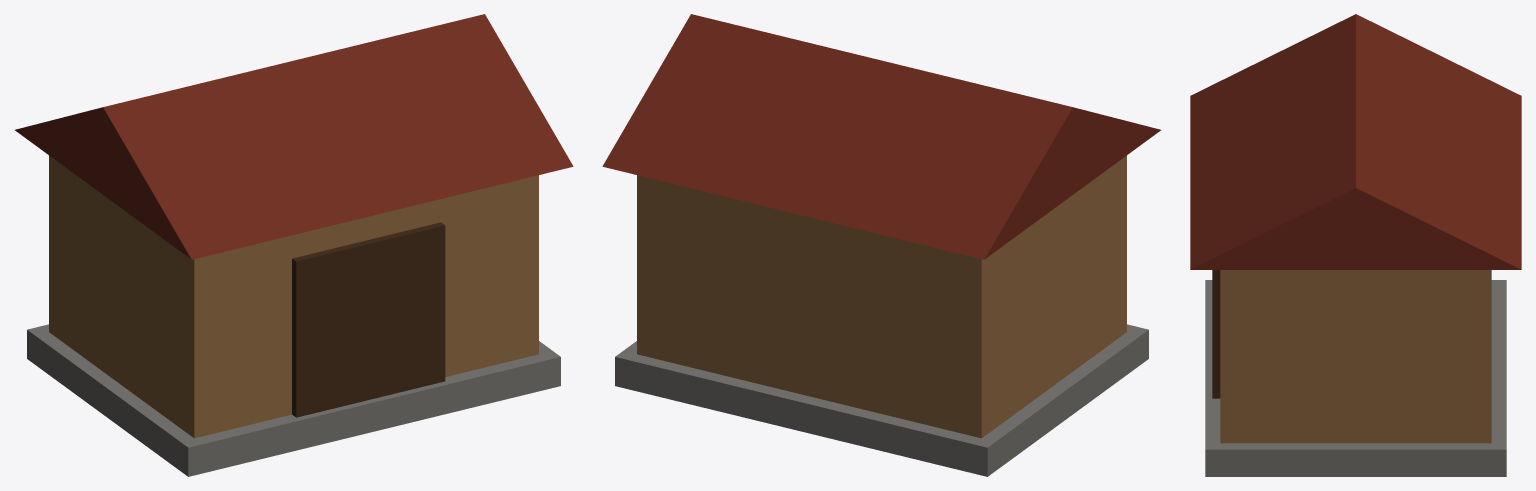
The model's file is storage.glb.
3 renders of one model, left to right at view 1: azimuth 30°, elevation 25°; view 2: azimuth 150°, elevation 25°; view 3: azimuth 270°, elevation 25°, orthographic. The views are drawn at different scales.
Visible parts, largest first — view 1: storage; view 2: storage; view 3: storage.
Part boxes in pixels (box(x1,y1,x2,y2)): storage: box(15, 14, 573, 476); storage: box(602, 14, 1160, 476); storage: box(1190, 14, 1521, 476).
Bounding box in the file's own units: 4.1 × 3.2 × 3.3.
